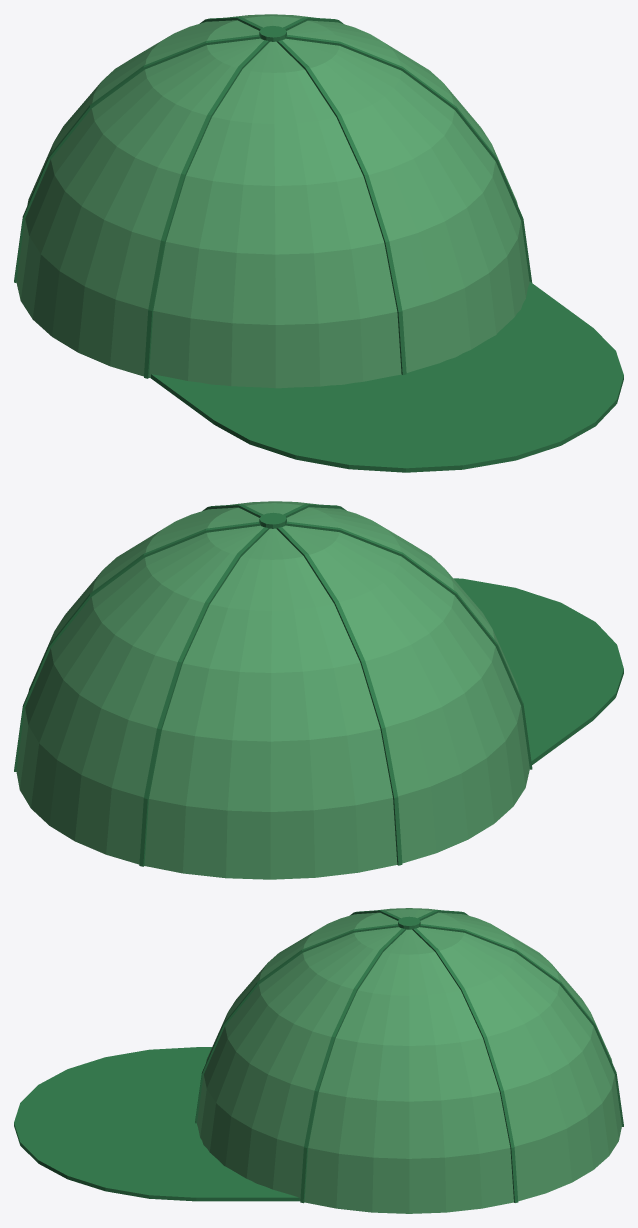
File: cap.dae
The picture shows the model from 3 angles, top to bottom: view 1: azimuth 30°, elevation 25°; view 2: azimuth 150°, elevation 25°; view 3: azimuth 270°, elevation 25°; orthographic projection. The views are drawn at different scales.
Parts seen in each view (by area): view 1: __1; view 2: __1; view 3: __1.
Part boxes in pixels (x1,y1,x2,y2): __1: [14, 14, 623, 472]; __1: [14, 501, 623, 879]; __1: [14, 908, 623, 1213].
Size of the model in its own units: 0.1905 by 0.2794 by 0.1034.
